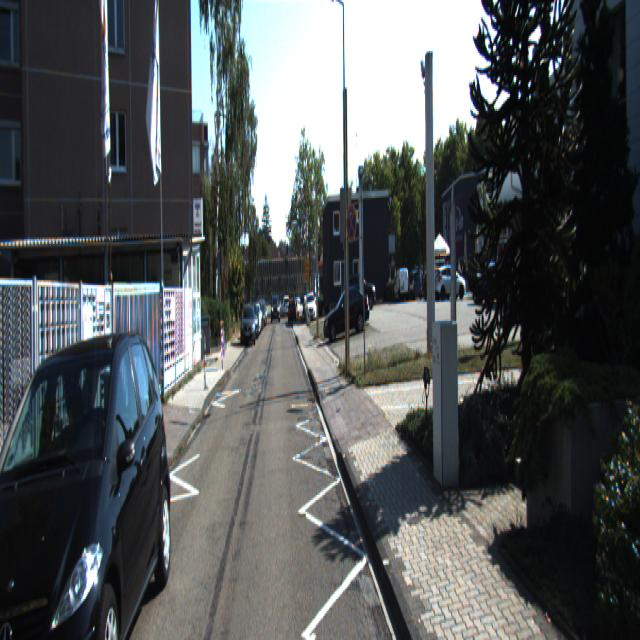Car: (0, 328, 172, 638), (322, 288, 372, 348), (433, 264, 467, 301), (239, 304, 257, 348), (394, 266, 409, 302)
DontCare: (257, 283, 318, 338), (411, 258, 424, 300)
